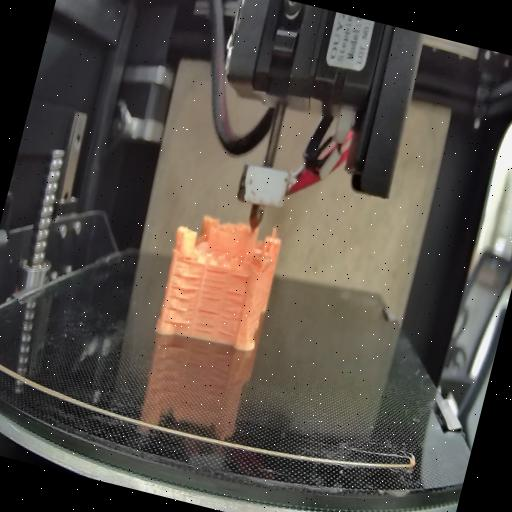cracks: (192, 266, 229, 336), (162, 270, 204, 328), (214, 284, 250, 343), (230, 270, 252, 282)
